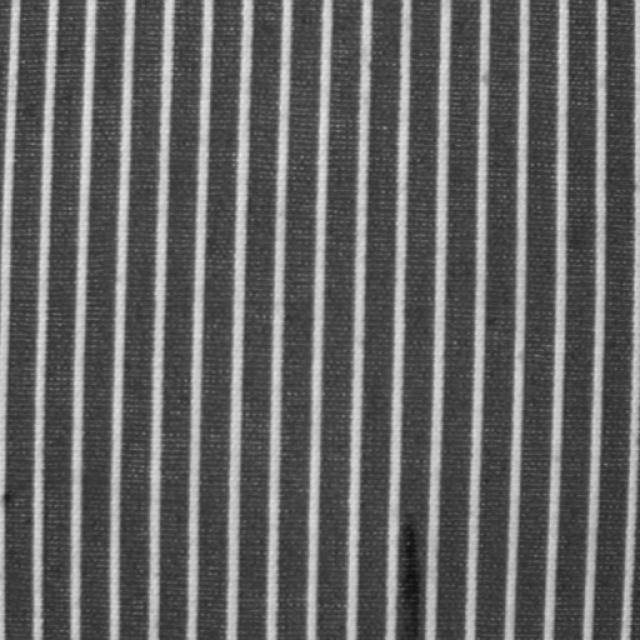Stain-Defect: (398, 519, 420, 639)
